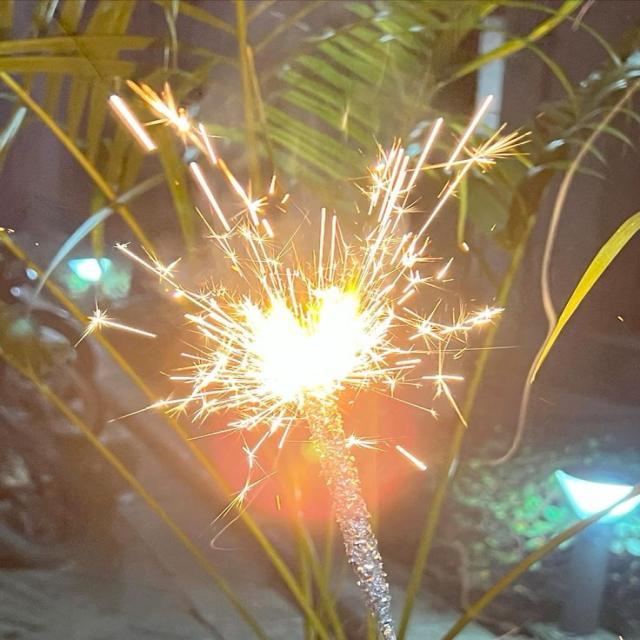fire: (242, 286, 391, 405)
